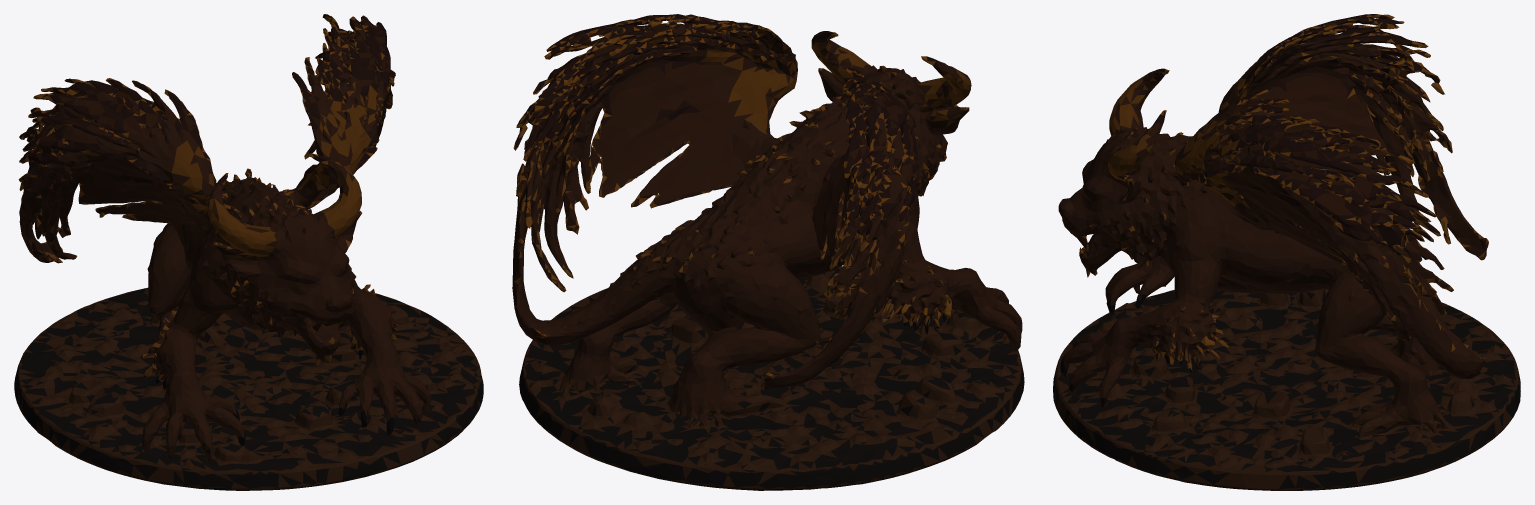
Rendered from garalux.glb.
3 renders of one model, left to right at view 1: azimuth 30°, elevation 25°; view 2: azimuth 150°, elevation 25°; view 3: azimuth 270°, elevation 25°, orthographic. The views are drawn at different scales.
Visible parts, largest first — view 1: tmp0f4yrosg.ply; view 2: tmp0f4yrosg.ply; view 3: tmp0f4yrosg.ply.
Boxes of the visible parts, <box> form: tmp0f4yrosg.ply: <box>14,14,483,490</box>; tmp0f4yrosg.ply: <box>512,14,1024,490</box>; tmp0f4yrosg.ply: <box>1053,14,1520,490</box>.
Size of the model in its own units: 1.96 by 1.5 by 1.96.
